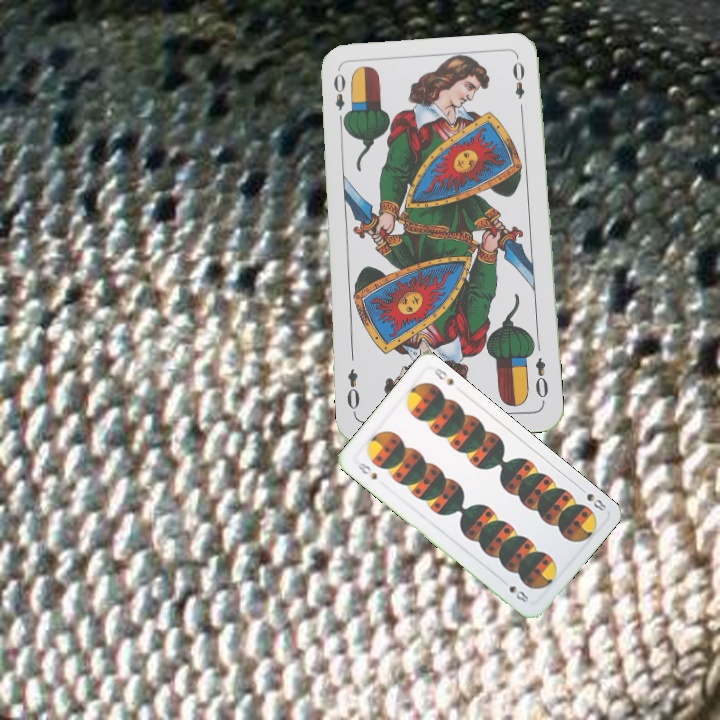EO: (330, 69, 351, 127), (531, 353, 551, 405)
S8: (575, 482, 609, 514), (353, 459, 380, 482)
